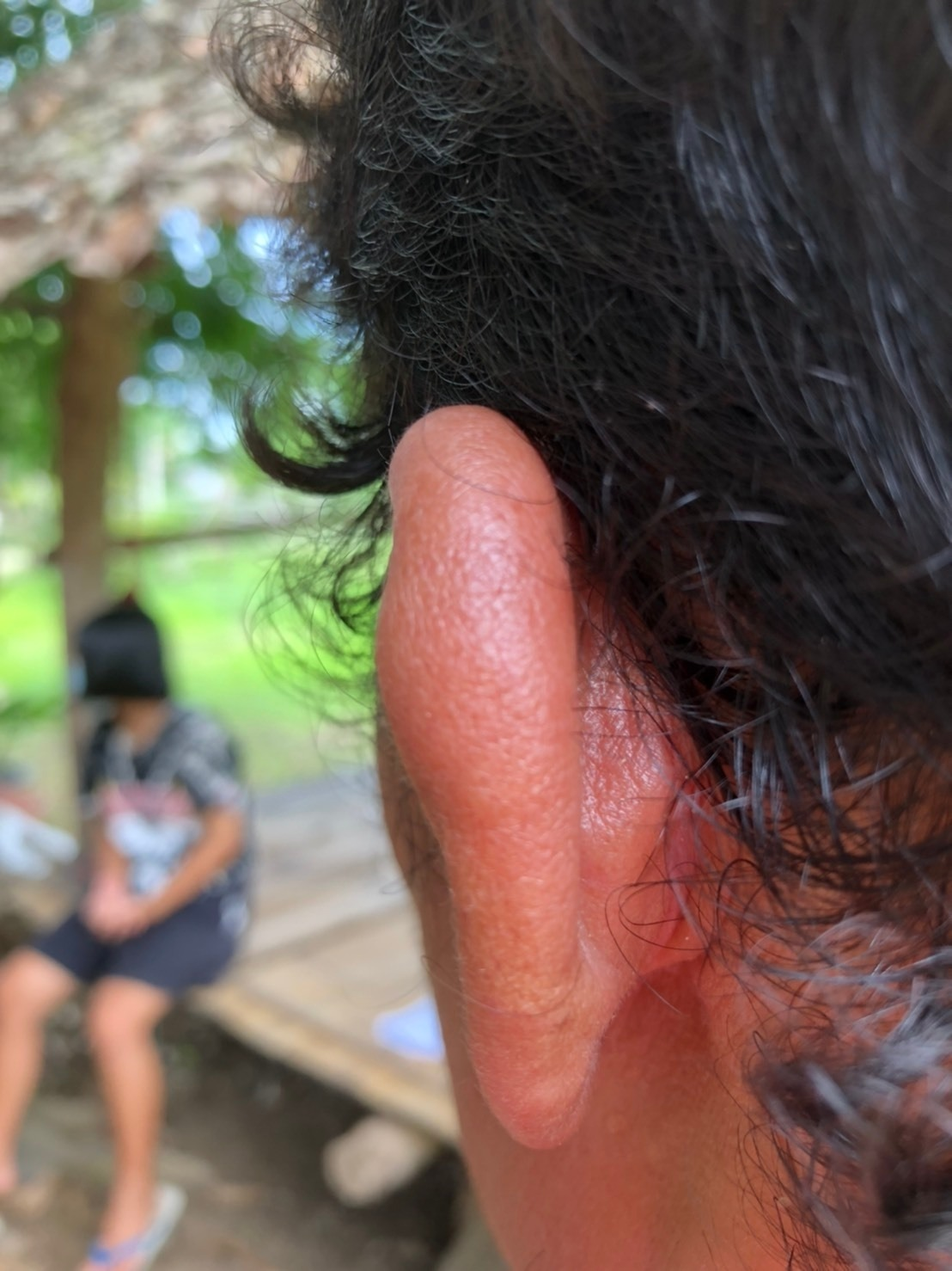Leprosy: (370, 397, 693, 1153)
